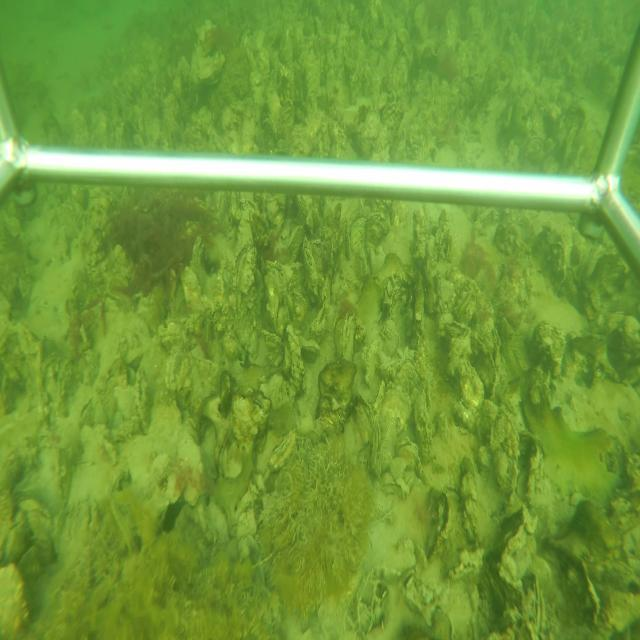Oyster-Closed: (231, 238, 259, 355), (352, 392, 379, 478), (377, 386, 413, 440), (268, 428, 297, 469), (299, 337, 321, 357)
Oyster-Indeterminate: (489, 404, 523, 501), (414, 386, 434, 465)
Oyster-Open: (427, 492, 452, 564)
